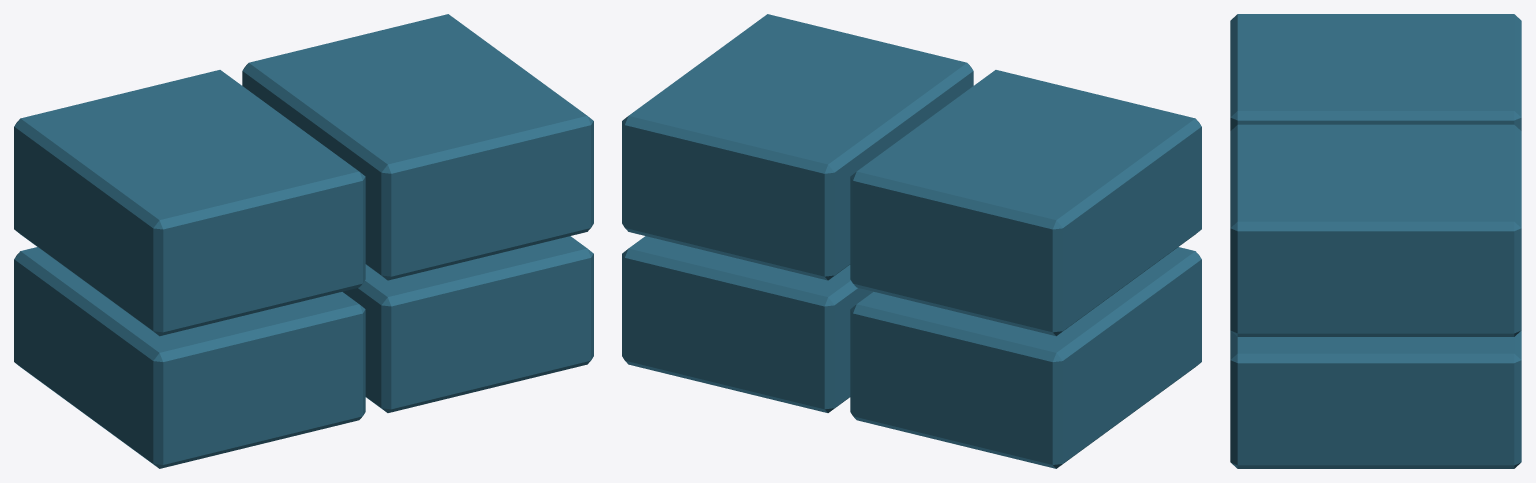
The model's file is fish_crates.glb.
3 renders of one model, left to right at view 1: azimuth 30°, elevation 25°; view 2: azimuth 150°, elevation 25°; view 3: azimuth 270°, elevation 25°, orthographic.
Visible parts, largest first — view 1: fish_crates; view 2: fish_crates; view 3: fish_crates.
Part boxes in pixels (x1,y1,x2,y2): fish_crates: (14,14,593,468); fish_crates: (622,14,1201,468); fish_crates: (1230,14,1521,468).
Bounding box in the file's own units: 1.39 × 0.75 × 0.8.
